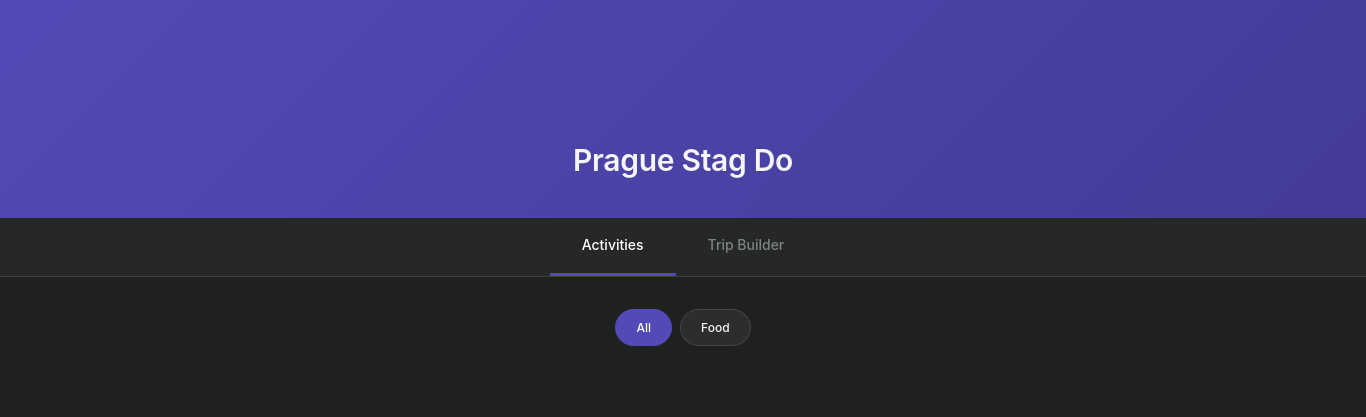
a failed filter change shows an inline error, not "Destination not found"
Expected: the button "Activities" is shown, [550,218,676,276]
Click the button "Food": (715, 327) [680,309,751,346]
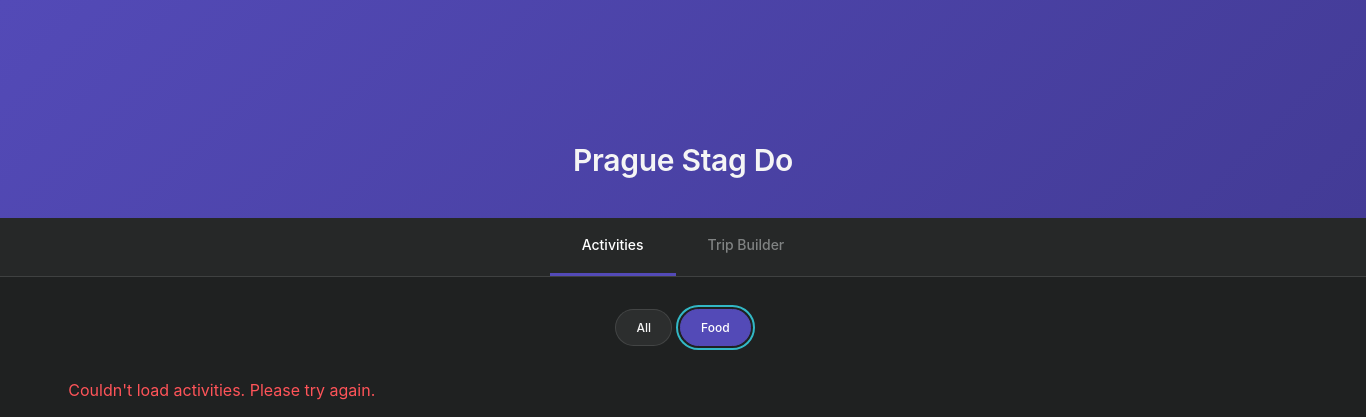
Expected: the button "Activities" is shown, [550,218,676,276]
Result: the text "Couldn't load activities. Please try again." is shown at [68,380,375,400]
